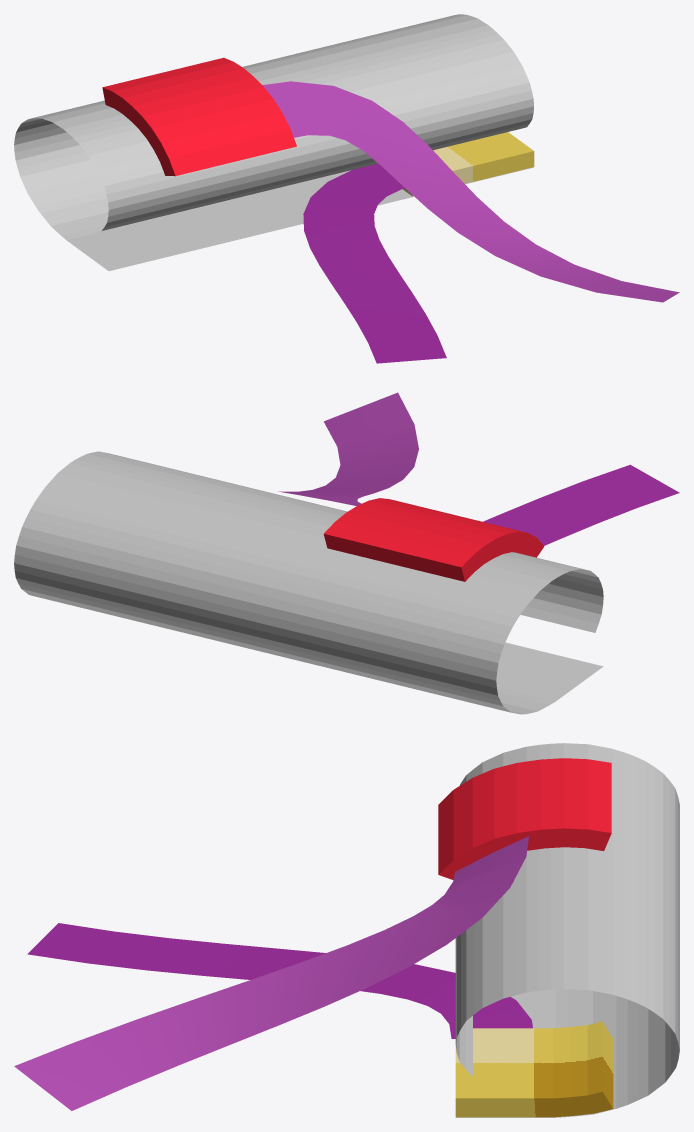
File: scroll_797x02.obj
3 renders of one model, top to bottom at view 1: azimuth 30°, elevation 25°; view 2: azimuth 150°, elevation 25°; view 3: azimuth 270°, elevation 25°, orthographic. The views are drawn at different scales.
Parts seen in each view (by area): view 1: Paper; view 2: Paper; view 3: Paper.
Boxes of the visible parts, bbox=[...] form: Paper: bbox=[14, 14, 679, 363]; Paper: bbox=[14, 392, 679, 714]; Paper: bbox=[14, 743, 679, 1117].
Size of the model in its own units: 0.9111 by 0.2609 by 1.04.
